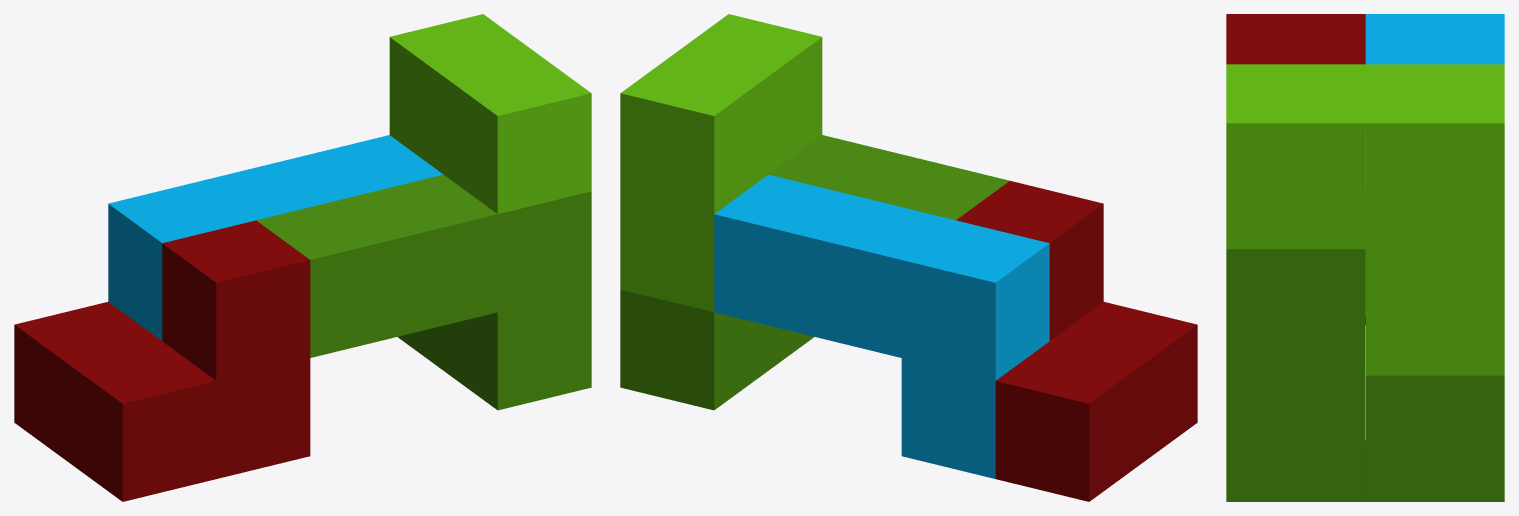
3 renders of one model, left to right at view 1: azimuth 30°, elevation 25°; view 2: azimuth 150°, elevation 25°; view 3: azimuth 270°, elevation 25°, orthographic. The views are drawn at different scales.
Parts seen in each view (by area): view 1: mergedBlocks(Clone); view 2: mergedBlocks(Clone); view 3: mergedBlocks(Clone).
Part boxes in pixels (<box>): mergedBlocks(Clone): <box>14,14,591,501</box>; mergedBlocks(Clone): <box>620,14,1197,501</box>; mergedBlocks(Clone): <box>1226,14,1504,501</box>.
Size of the model in its own units: 5 by 3 by 2.
4 materials, 4 textured.
